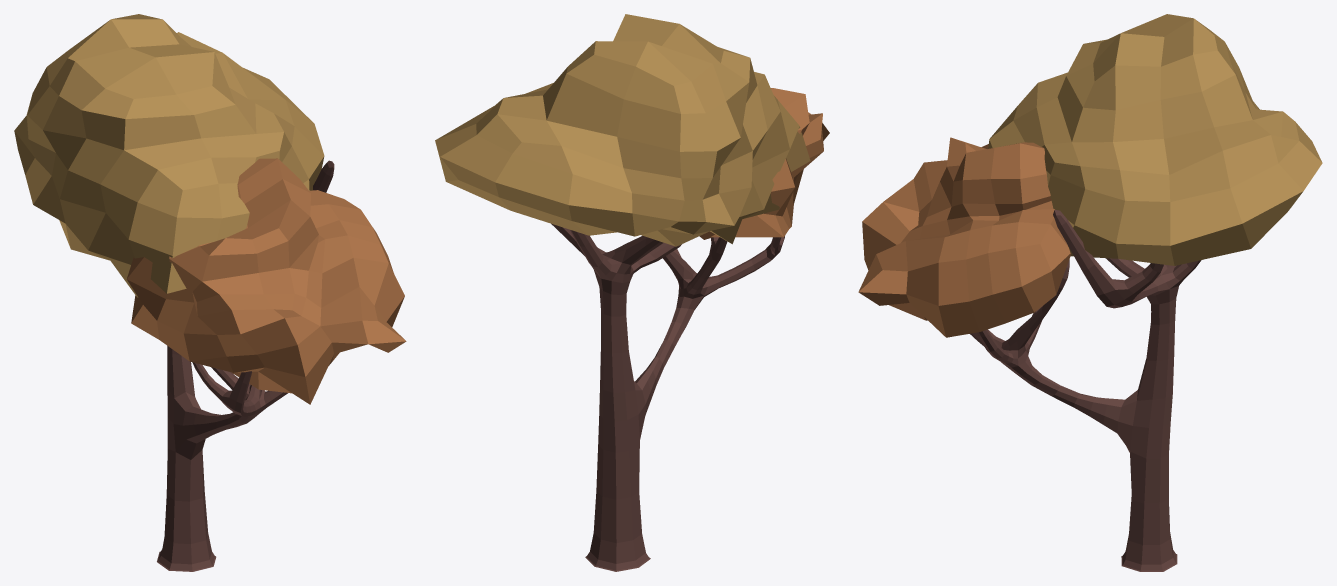
Rendered from CommonTree_Autumn_2.glb.
The picture shows the model from 3 angles, left to right: view 1: azimuth 30°, elevation 25°; view 2: azimuth 150°, elevation 25°; view 3: azimuth 270°, elevation 25°; orthographic projection. The views are drawn at different scales.
Visible parts, largest first — view 1: LightOrange, Orange, Wood; view 2: LightOrange, Wood, Orange; view 3: LightOrange, Orange, Wood.
Part boxes in pixels (<box>): LightOrange: <box>14,14,324,297</box>; Orange: <box>126,158,406,404</box>; Wood: <box>157,160,334,571</box>; LightOrange: <box>435,14,810,246</box>; Wood: <box>551,223,784,571</box>; Orange: <box>699,88,829,239</box>; LightOrange: <box>988,14,1322,265</box>; Orange: <box>858,137,1071,337</box>; Wood: <box>970,209,1201,571</box>.
Size of the model in its own units: 1.66 by 3.12 by 2.54.
